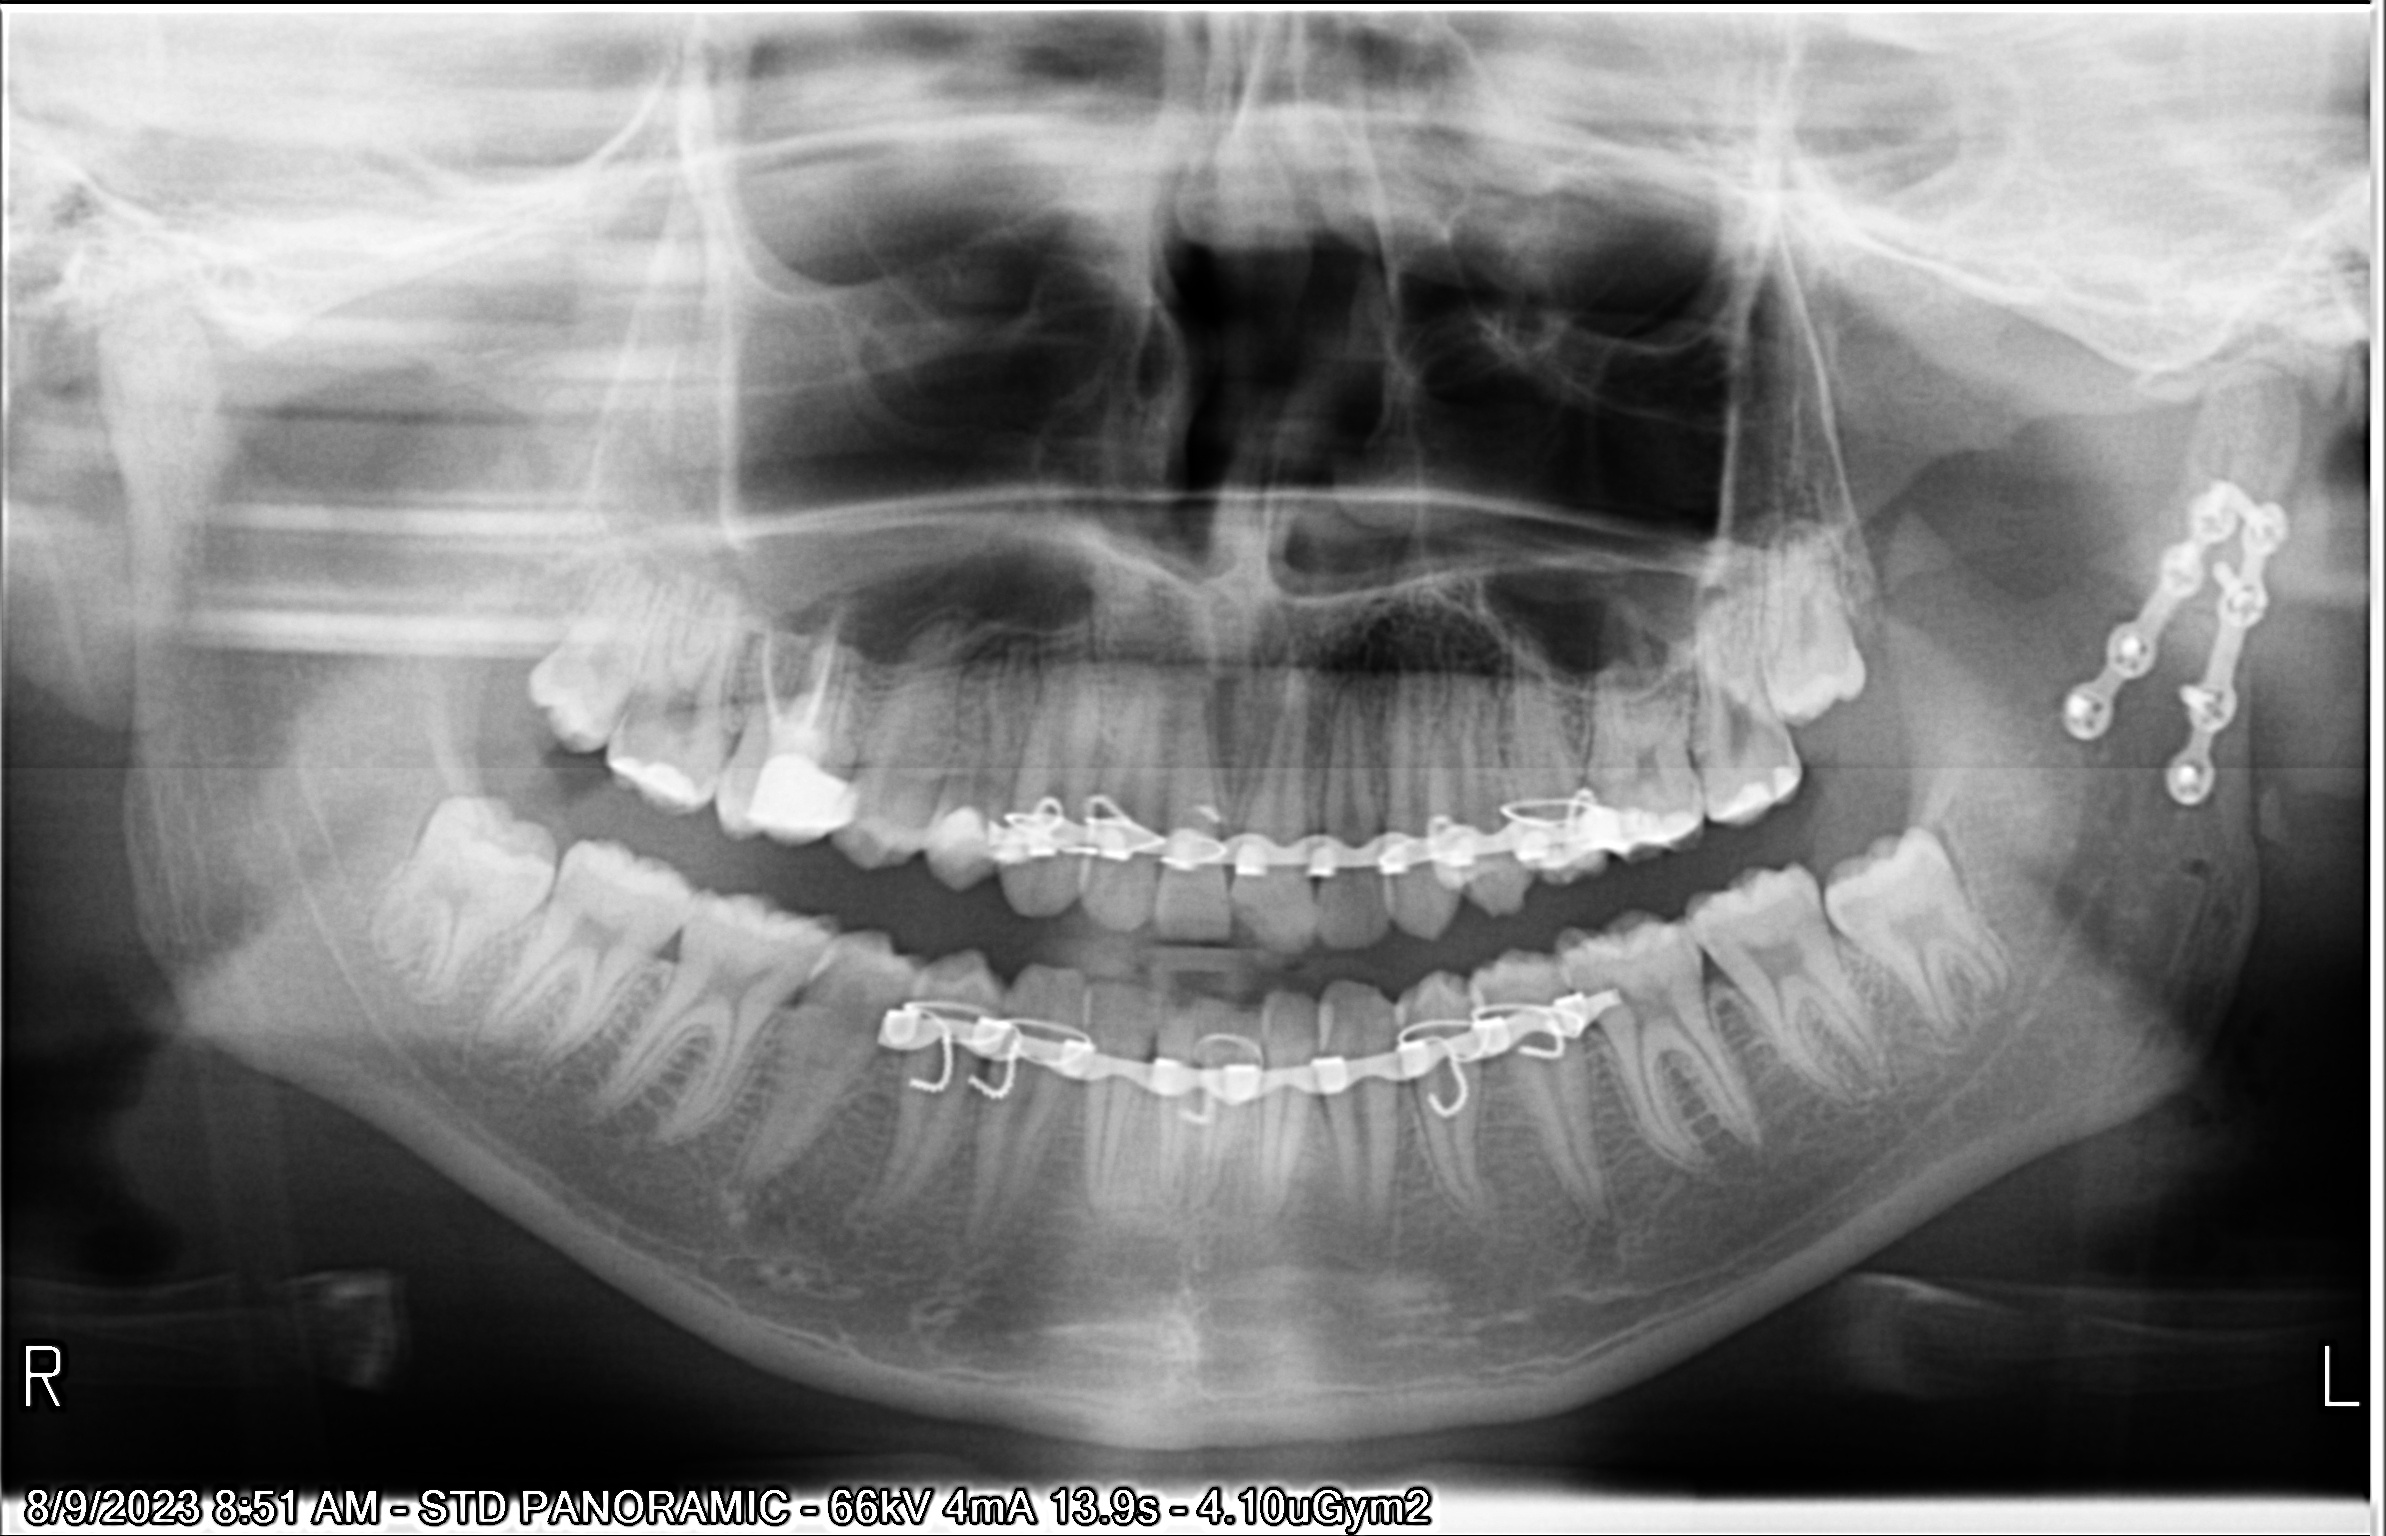END: (737, 591, 882, 748)
IMT: (1838, 798, 2038, 1113), (337, 779, 567, 997), (1737, 532, 1889, 743), (487, 565, 654, 739)
OBT: (763, 724, 890, 861), (581, 725, 715, 821), (1703, 743, 1798, 838)
ORD: (868, 945, 1647, 1139), (986, 769, 1647, 908)
